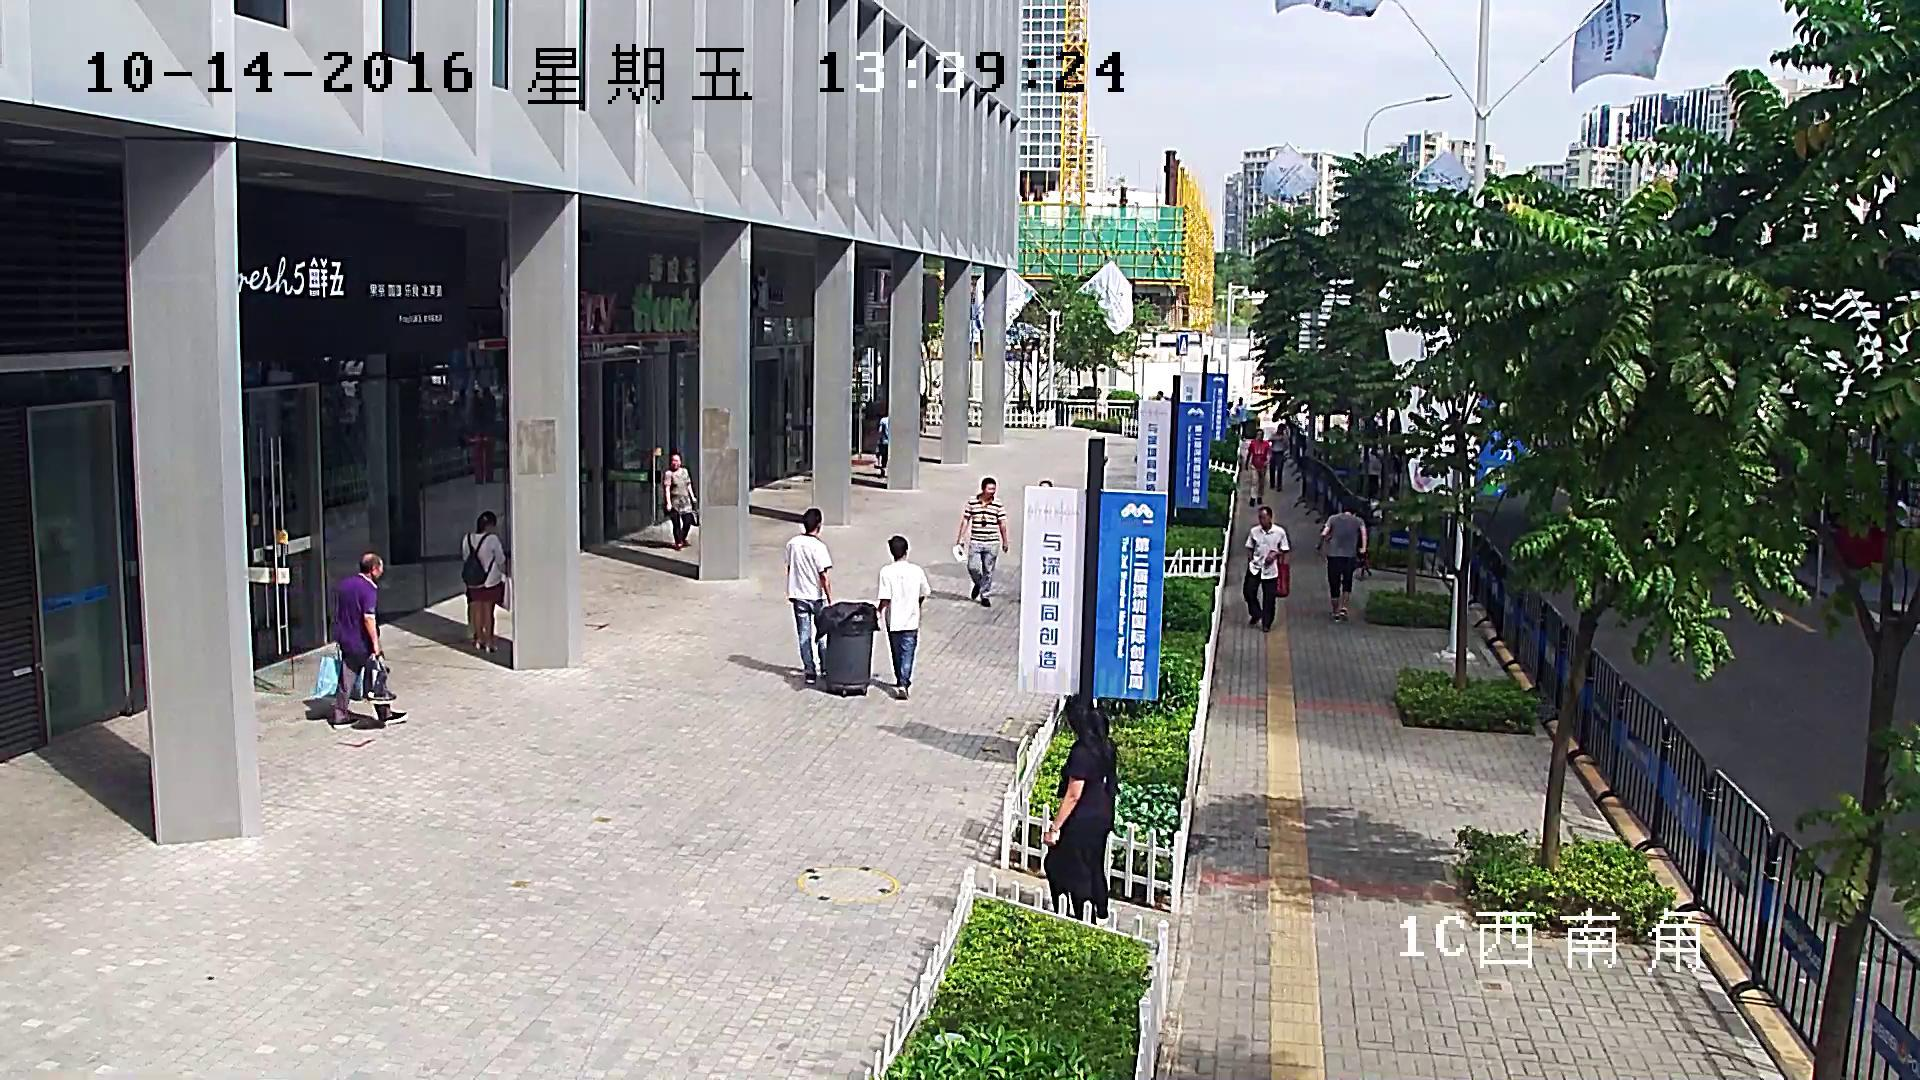person: (815, 534, 932, 700), (1041, 692, 1120, 929), (782, 507, 880, 698), (314, 551, 408, 730), (782, 507, 833, 684), (876, 535, 931, 700), (950, 476, 1008, 607), (460, 510, 512, 654), (1313, 504, 1368, 625), (1242, 505, 1291, 633), (664, 452, 698, 551), (1243, 428, 1270, 506), (1266, 423, 1288, 493), (872, 415, 888, 479), (1366, 447, 1383, 499), (1233, 396, 1247, 442), (1226, 401, 1233, 431)
